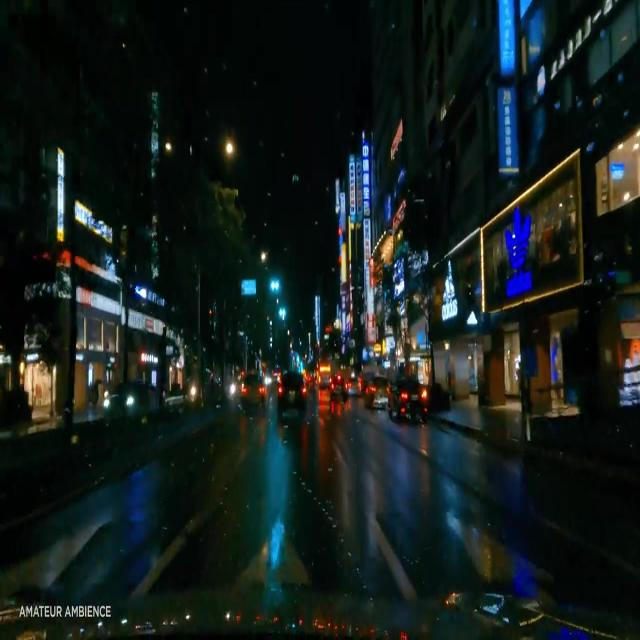Car: (385, 377, 426, 414), (275, 370, 307, 410), (240, 370, 264, 409), (364, 372, 385, 404)
